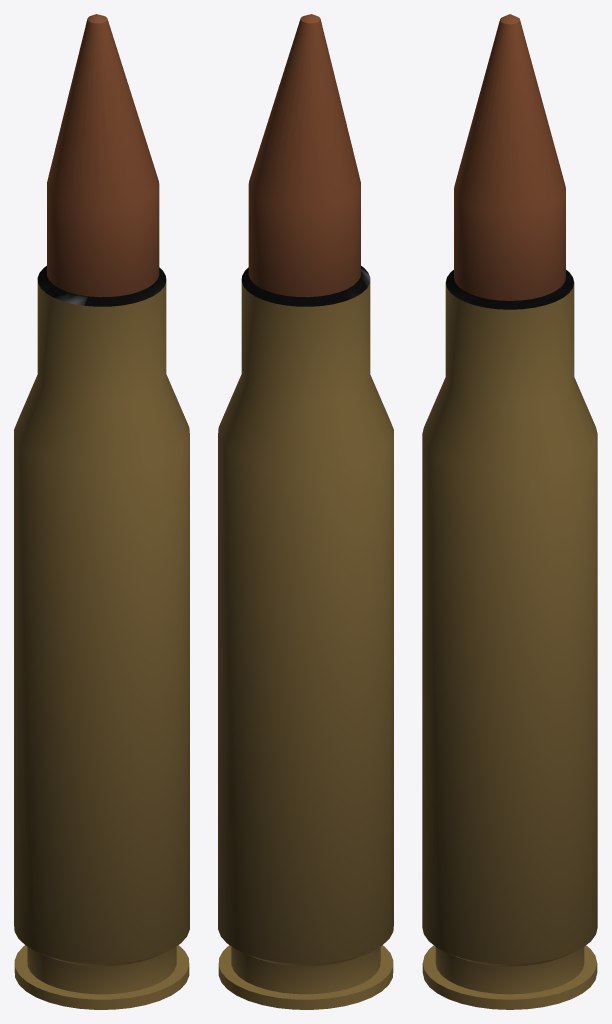
File: Tiro.fbx
The picture shows the model from 3 angles, left to right: view 1: azimuth 30°, elevation 25°; view 2: azimuth 150°, elevation 25°; view 3: azimuth 270°, elevation 25°; orthographic projection.
Visible parts, largest first — view 1: Bala; view 2: Bala; view 3: Bala.
Boxes of the visible parts, x1,y1,x2,y2 form: Bala: (14, 14, 189, 1009); Bala: (218, 14, 393, 1009); Bala: (422, 14, 597, 1009).
Bounding box in the file's own units: 14.06 × 84.52 × 14.06.
